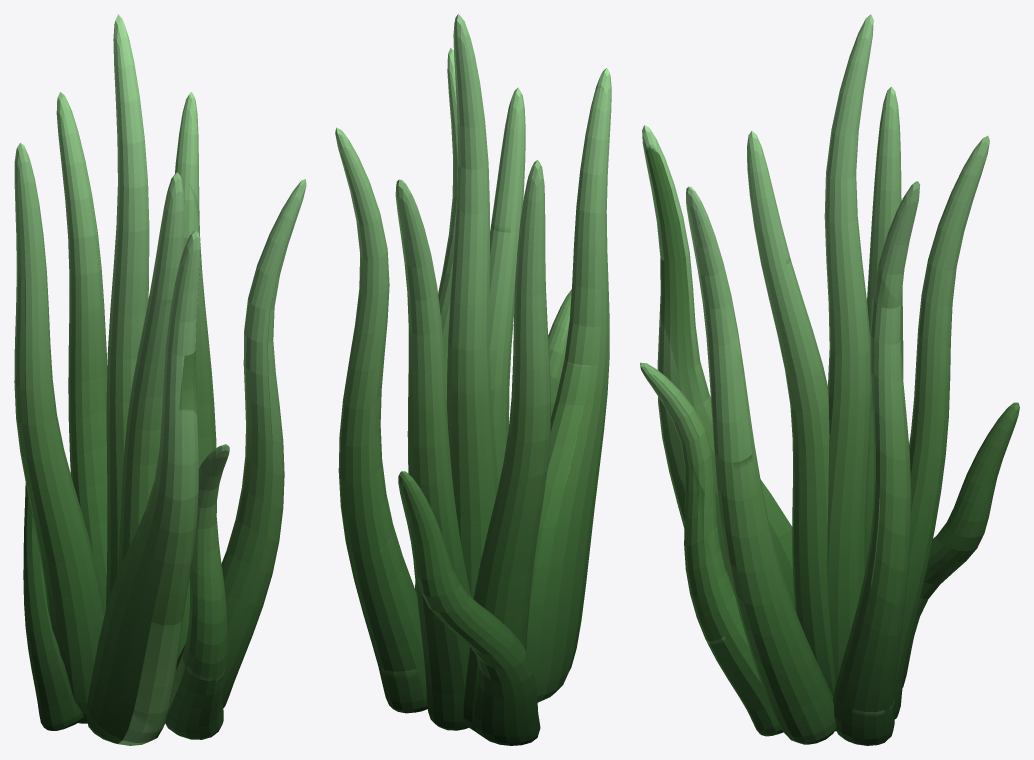
Rendered from grass1.fbx.
3 views of the same model, side by side, from view 1: azimuth 30°, elevation 25°; view 2: azimuth 150°, elevation 25°; view 3: azimuth 270°, elevation 25° (orthographic).
Parts seen in each view (by area): view 1: Cube.005; view 2: Cube.005; view 3: Cube.005.
Part boxes in pixels (left/top/right/bottom): Cube.005: left=14, top=14, right=306, bottom=745; Cube.005: left=335, top=14, right=611, bottom=745; Cube.005: left=640, top=14, right=1019, bottom=745.
Size of the model in its own units: 205 by 692 by 334.
1 material, 1 textured.
